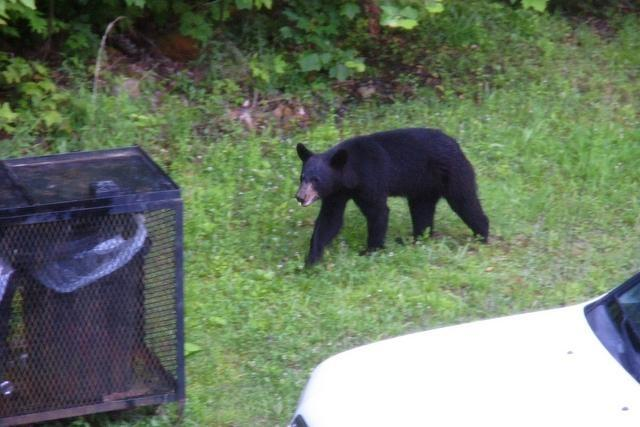car: (285, 270, 640, 424)
